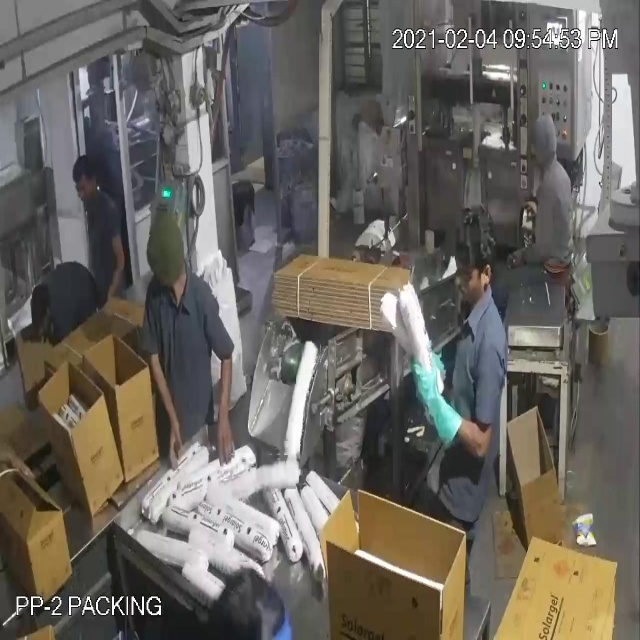Guantes: (407, 352, 467, 461)
Sin_guantes: (146, 341, 189, 487), (213, 337, 244, 479), (96, 228, 125, 309)
